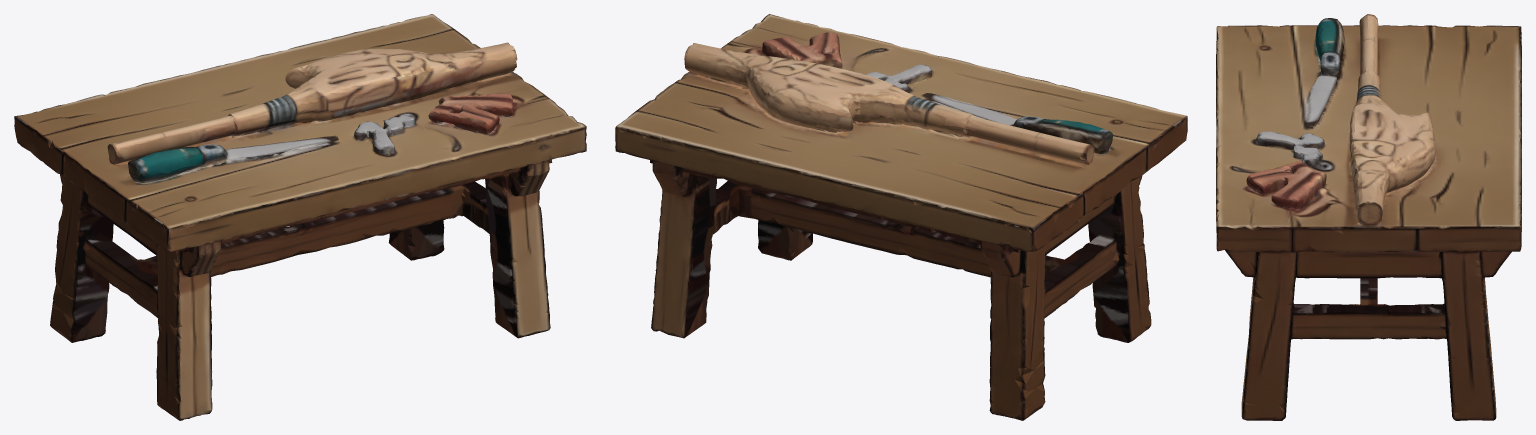
Rendered from Furn_BramBench.glb.
3 views of the same model, side by side, from view 1: azimuth 30°, elevation 25°; view 2: azimuth 150°, elevation 25°; view 3: azimuth 270°, elevation 25° (orthographic).
Parts seen in each view (by area): view 1: Furn_BramBench; view 2: Furn_BramBench; view 3: Furn_BramBench.
Part boxes in pixels (x1,y1,x2,y2): Furn_BramBench: [14, 14, 586, 420]; Furn_BramBench: [615, 14, 1187, 420]; Furn_BramBench: [1216, 14, 1521, 420].
Bounding box in the file's own units: 1.73 × 0.95 × 1.1.
1 material, 1 textured.
